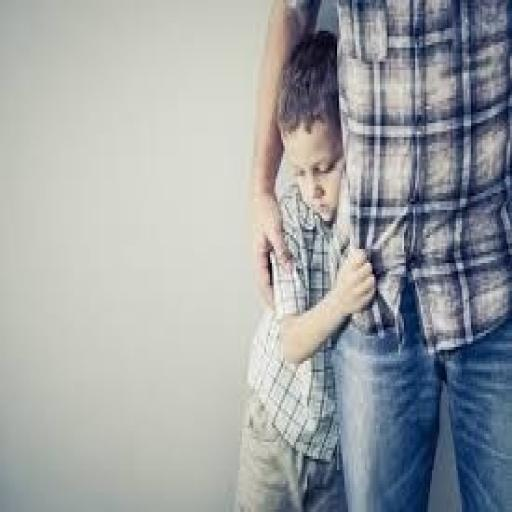hugging: (242, 0, 510, 509), (235, 28, 378, 509)
